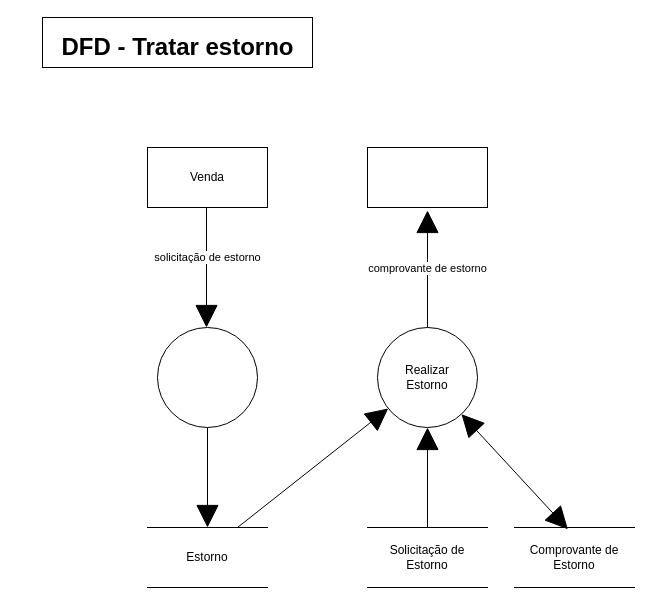
Image size: 652x605. Some labels were removed from this diagram. The shapes that lost their labels are listed below. From the top down, each one's centre as x and y in pixels, then its label:
the point at 427,177: Cliente
the point at 207,377: Receber Estorno
